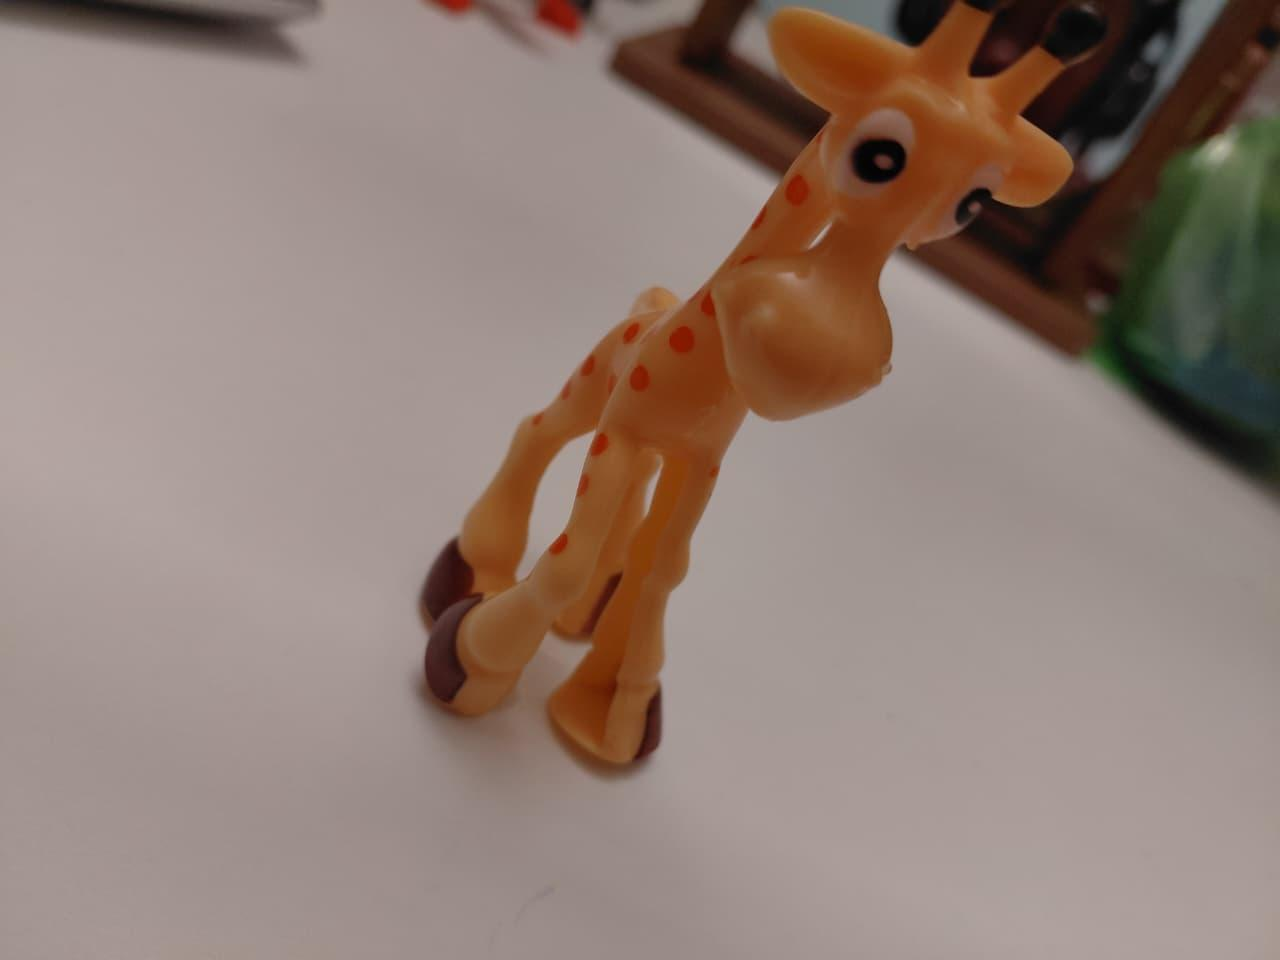giraffe: (414, 4, 1112, 793)
